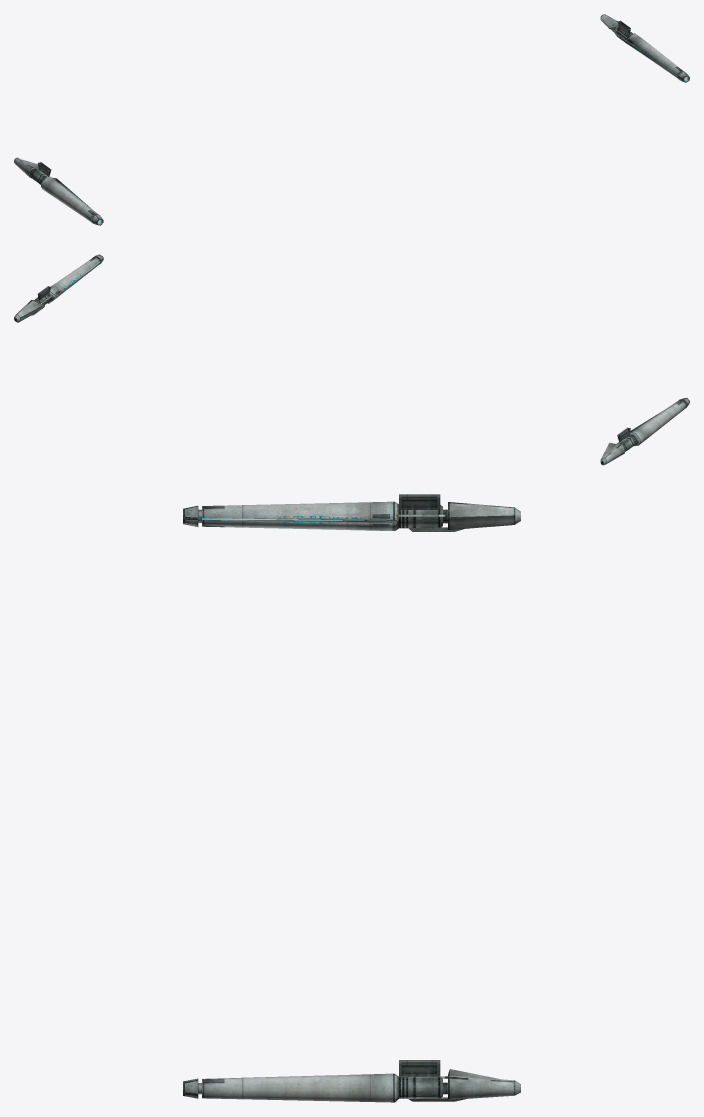
File: hutt_fighter_heavy_weapon2_s02_l1.fbx
The picture shows the model from 3 angles, top to bottom: view 1: azimuth 30°, elevation 25°; view 2: azimuth 150°, elevation 25°; view 3: azimuth 270°, elevation 25°; orthographic projection. The views are drawn at different scales.
Parts seen in each view (by area): view 1: mesh_node; view 2: mesh_node; view 3: mesh_node.
Boxes of the visible parts, bbox=[...] form: mesh_node: bbox=[14, 14, 689, 225]; mesh_node: bbox=[14, 254, 689, 465]; mesh_node: bbox=[183, 494, 520, 1102].
Bounding box in the file's own units: 26.54 × 0.803 × 6.48.
1 material, 1 textured.
